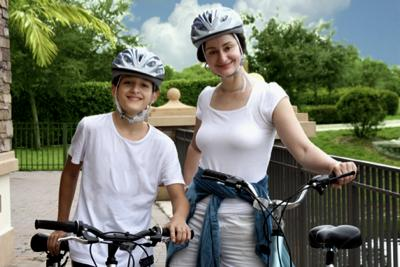With Helmet: (189, 4, 250, 87), (104, 48, 170, 122)
